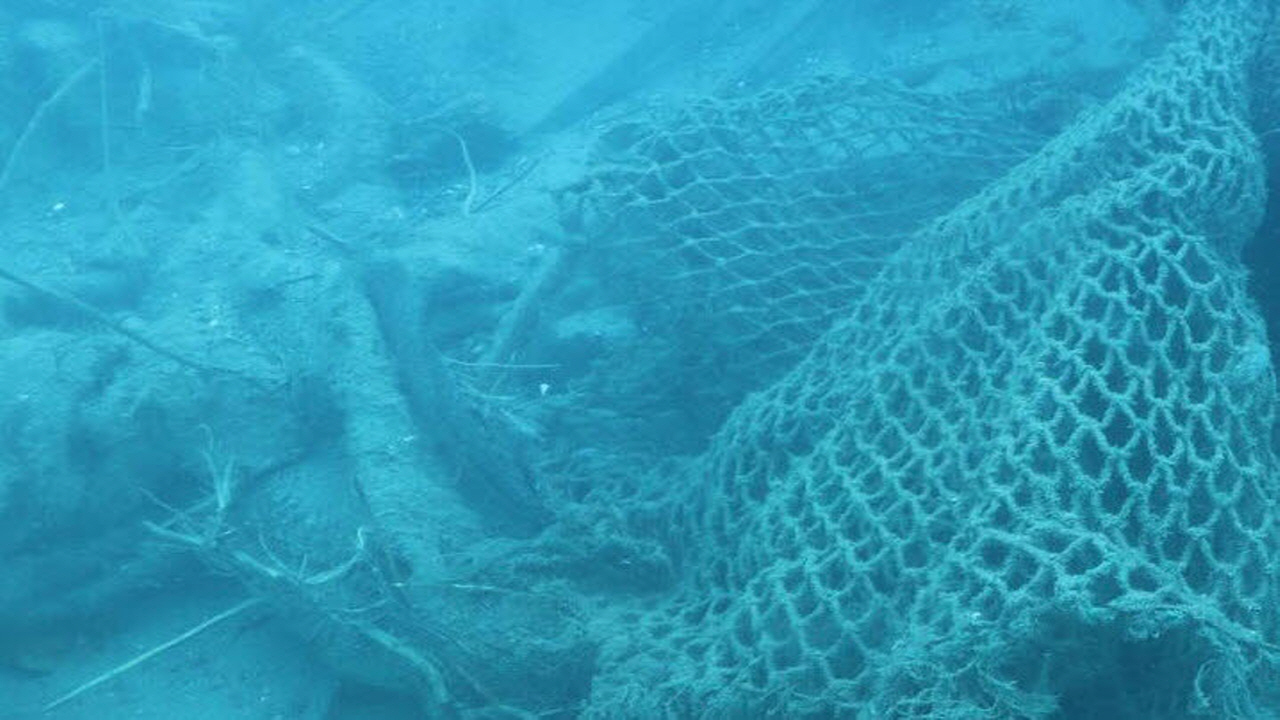fish net: (629, 0, 1280, 705)
